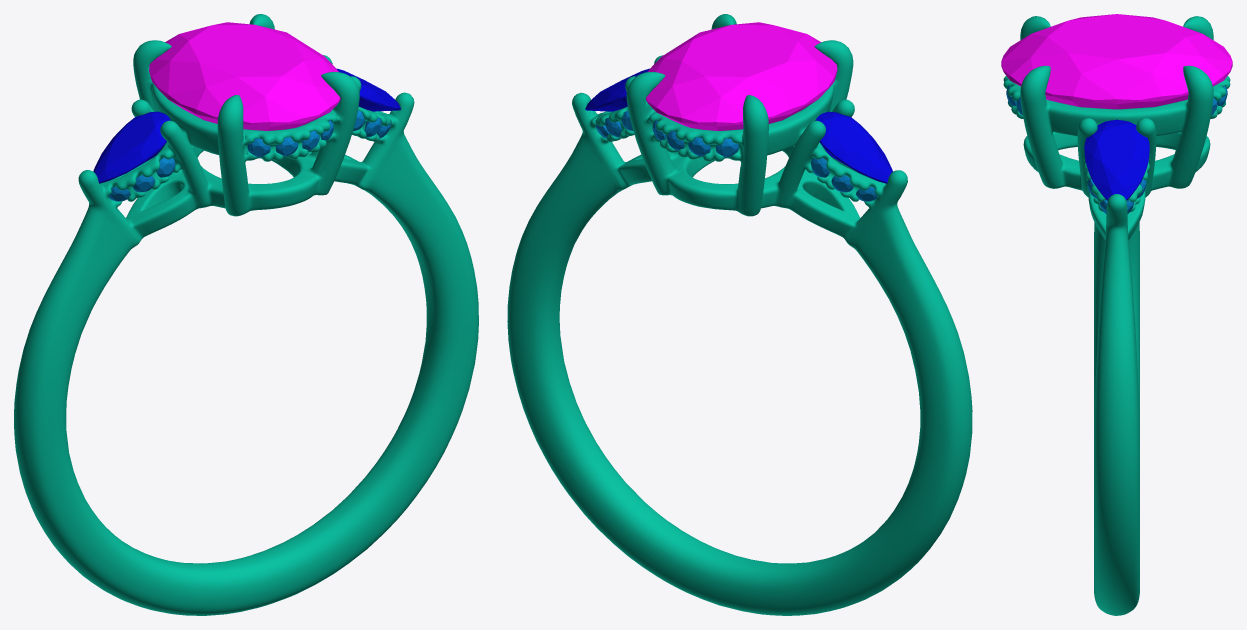
The model's file is BE1D808_OV_200ct_RENDER.glb.
3 renders of one model, left to right at view 1: azimuth 30°, elevation 25°; view 2: azimuth 150°, elevation 25°; view 3: azimuth 270°, elevation 25°, orthographic.
Parts seen in each view (by area): view 1: Metal 01, CS_Diamond_Oval, Diamond_Pear_side, Diamond_Pear_side.001; view 2: Metal 01, CS_Diamond_Oval, Diamond_Pear_side, Diamond_Pear_side.001; view 3: Metal 01, CS_Diamond_Oval, Diamond_Pear_side.001.
Boxes of the visible parts, bbox=[...] form: Metal 01: bbox=[14, 14, 478, 615]; CS_Diamond_Oval: bbox=[149, 22, 340, 130]; Diamond_Pear_side: bbox=[93, 111, 170, 183]; Diamond_Pear_side.001: bbox=[336, 68, 400, 111]; Metal 01: bbox=[507, 14, 972, 615]; CS_Diamond_Oval: bbox=[646, 22, 837, 130]; Diamond_Pear_side: bbox=[815, 111, 892, 183]; Diamond_Pear_side.001: bbox=[585, 68, 649, 111]; Metal 01: bbox=[1003, 16, 1230, 615]; CS_Diamond_Oval: bbox=[1001, 14, 1232, 109]; Diamond_Pear_side.001: bbox=[1084, 119, 1149, 200].
Size of the model in its own units: 20.5 by 23.8 by 9.
